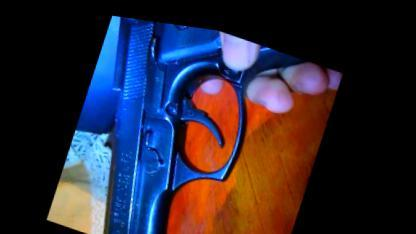pistol: (54, 8, 345, 233)
